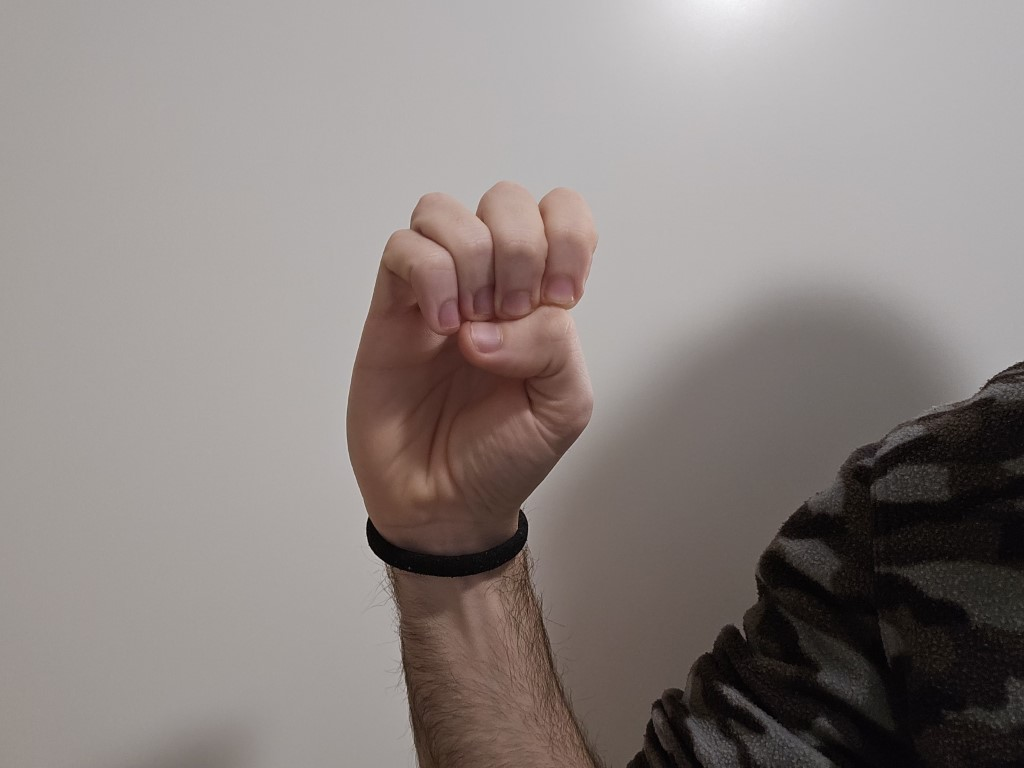e: (326, 163, 616, 542)
